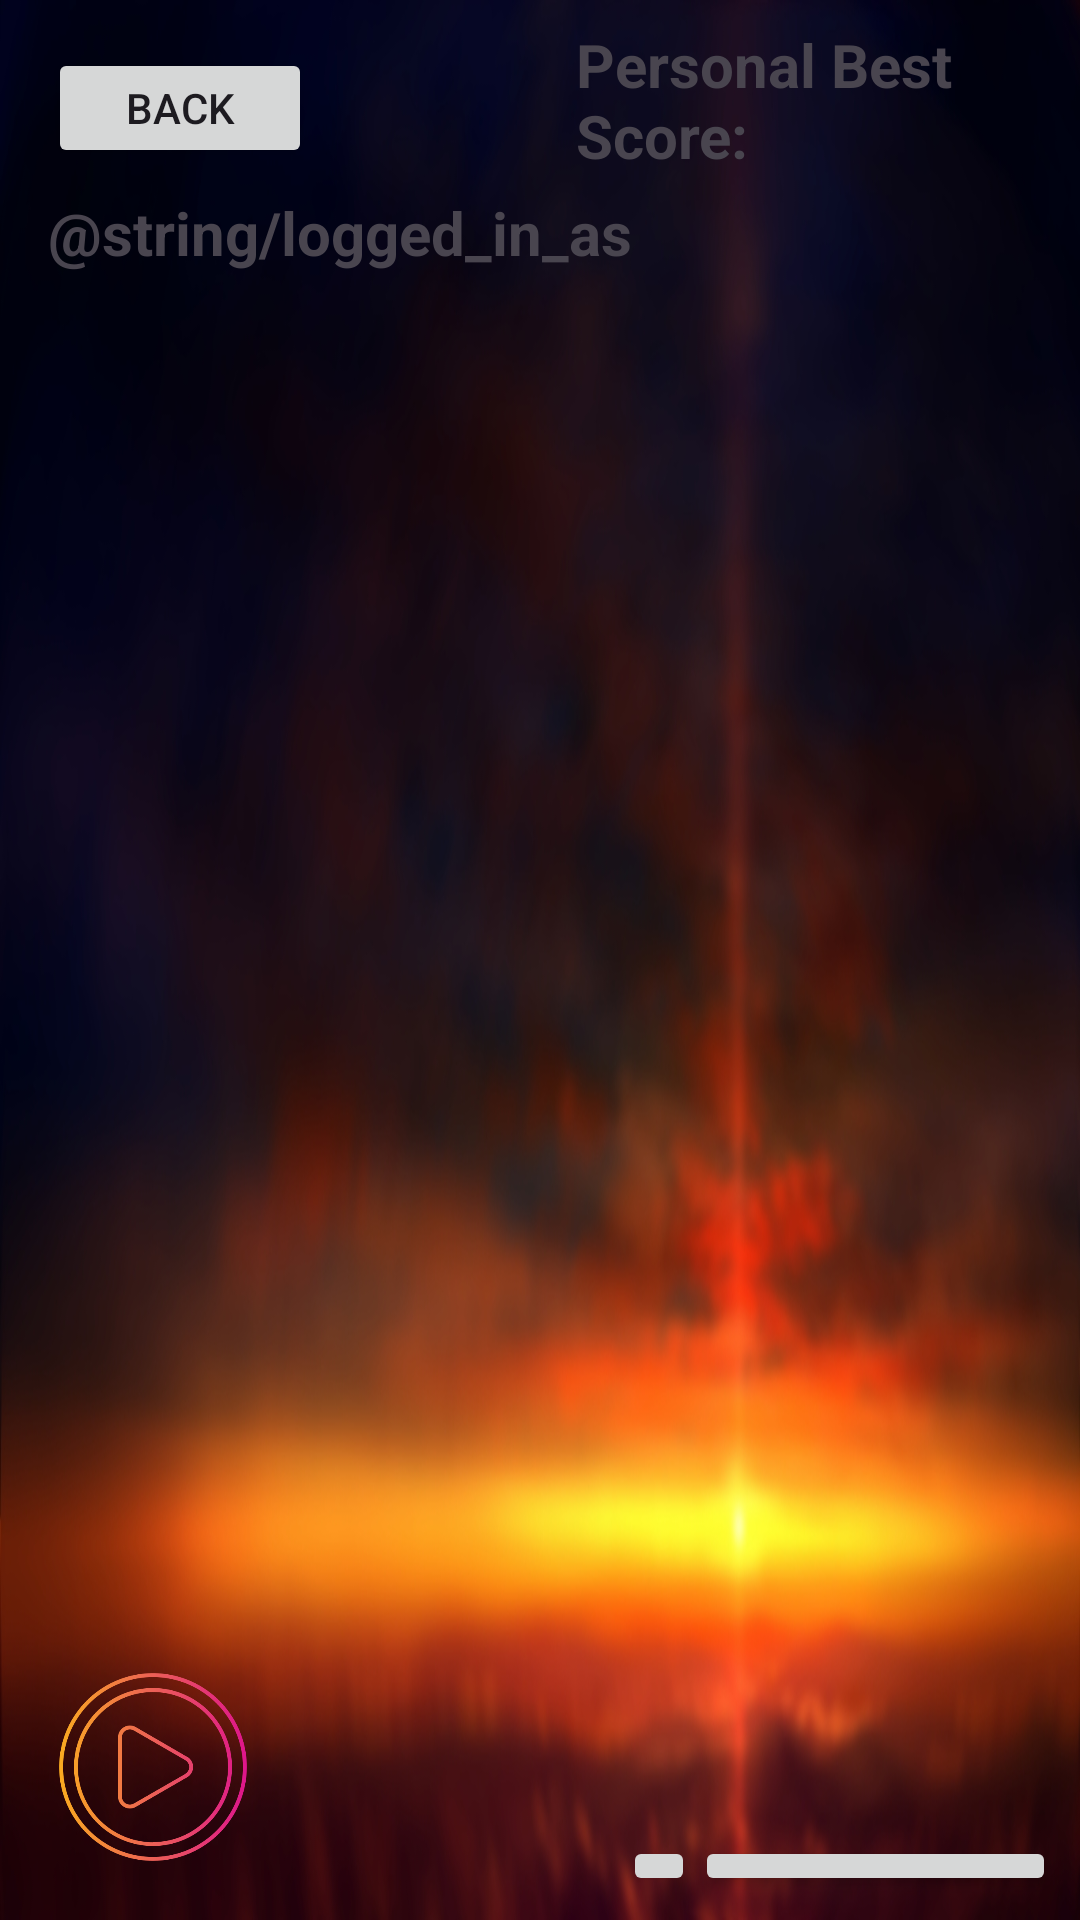

Named icons in this screenshot (1080x1920) and their centers, point (x, y):
Play Song: point (153, 1767)
